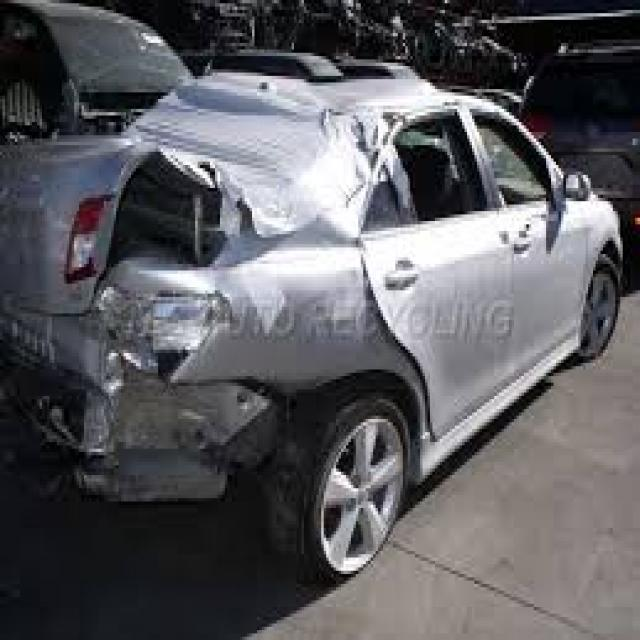moderate: (0, 89, 442, 518)
